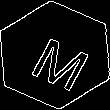M_NE: (20, 22, 90, 88)
